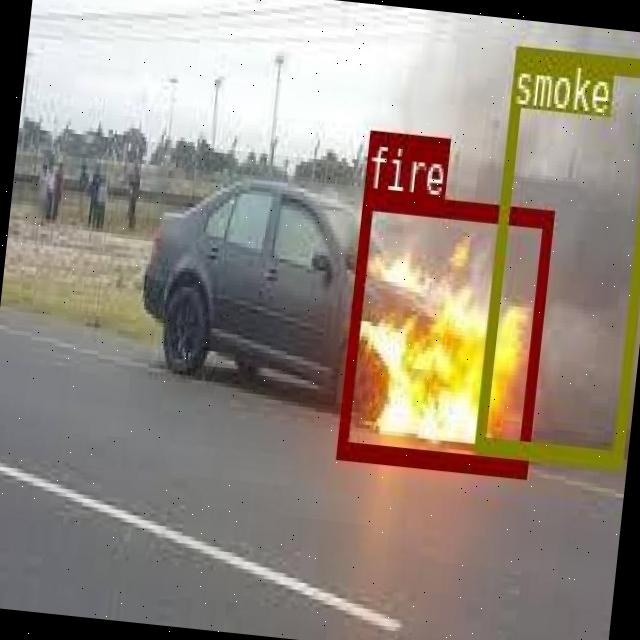fire: (335, 190, 553, 476)
smoke: (473, 42, 640, 463)
